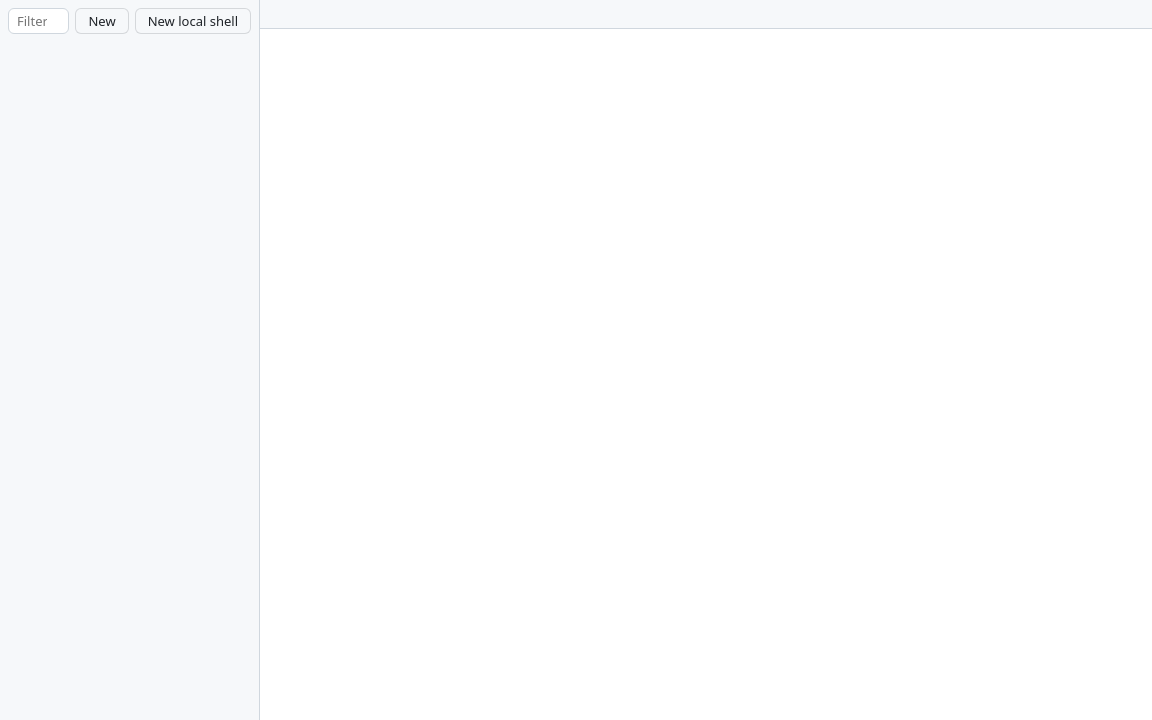
Test: Profiling panel › saves nothing when the user cancels the file picker
Type keys "{Control>}{Shift>}M{/Shift}{/Control}"
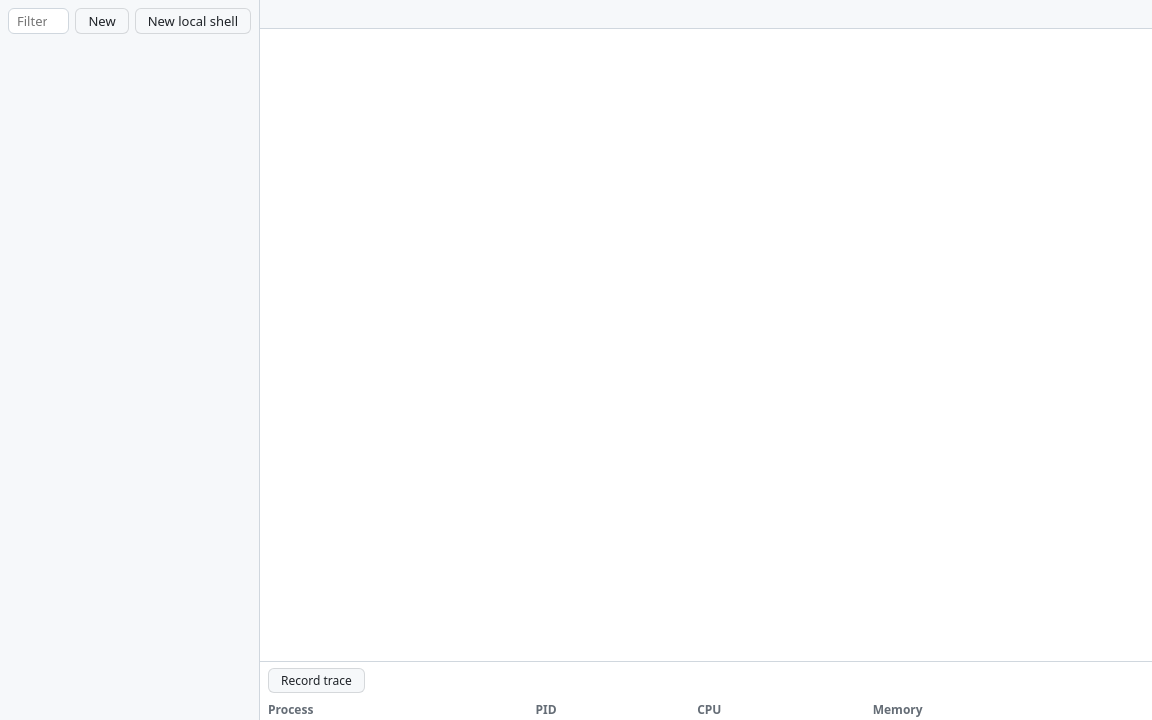
Click the button "Record trace" at (316, 680), box [268,668,365,693]
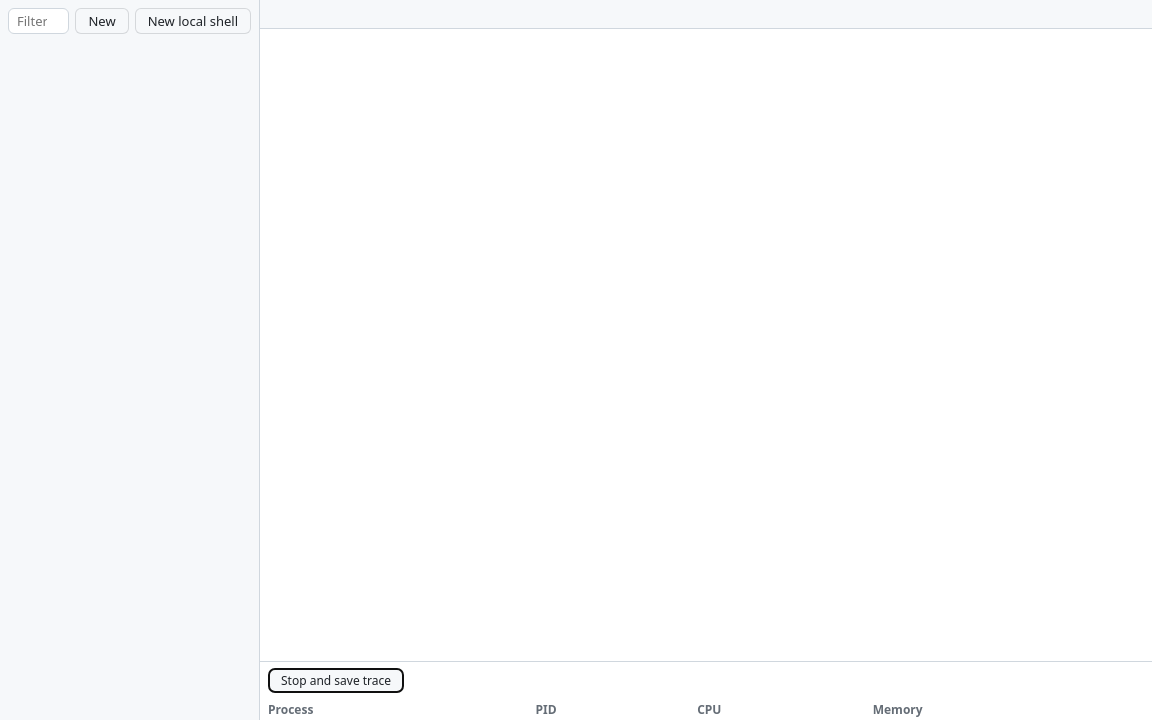
Click the button "Stop and save trace" at (336, 680), box [268,668,404,693]
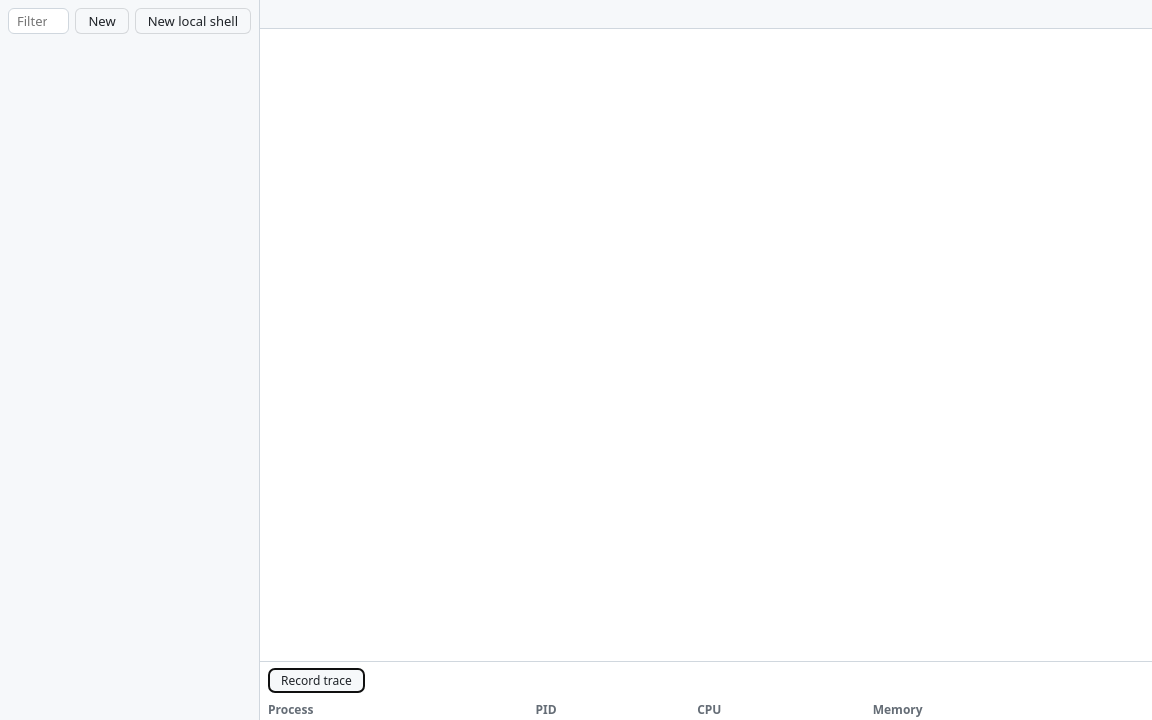
Expected: the element named "Profiling" does not show "Saved to", [260,661,1151,719]
Expected: the button "Record trace" is shown, [268,668,365,693]
